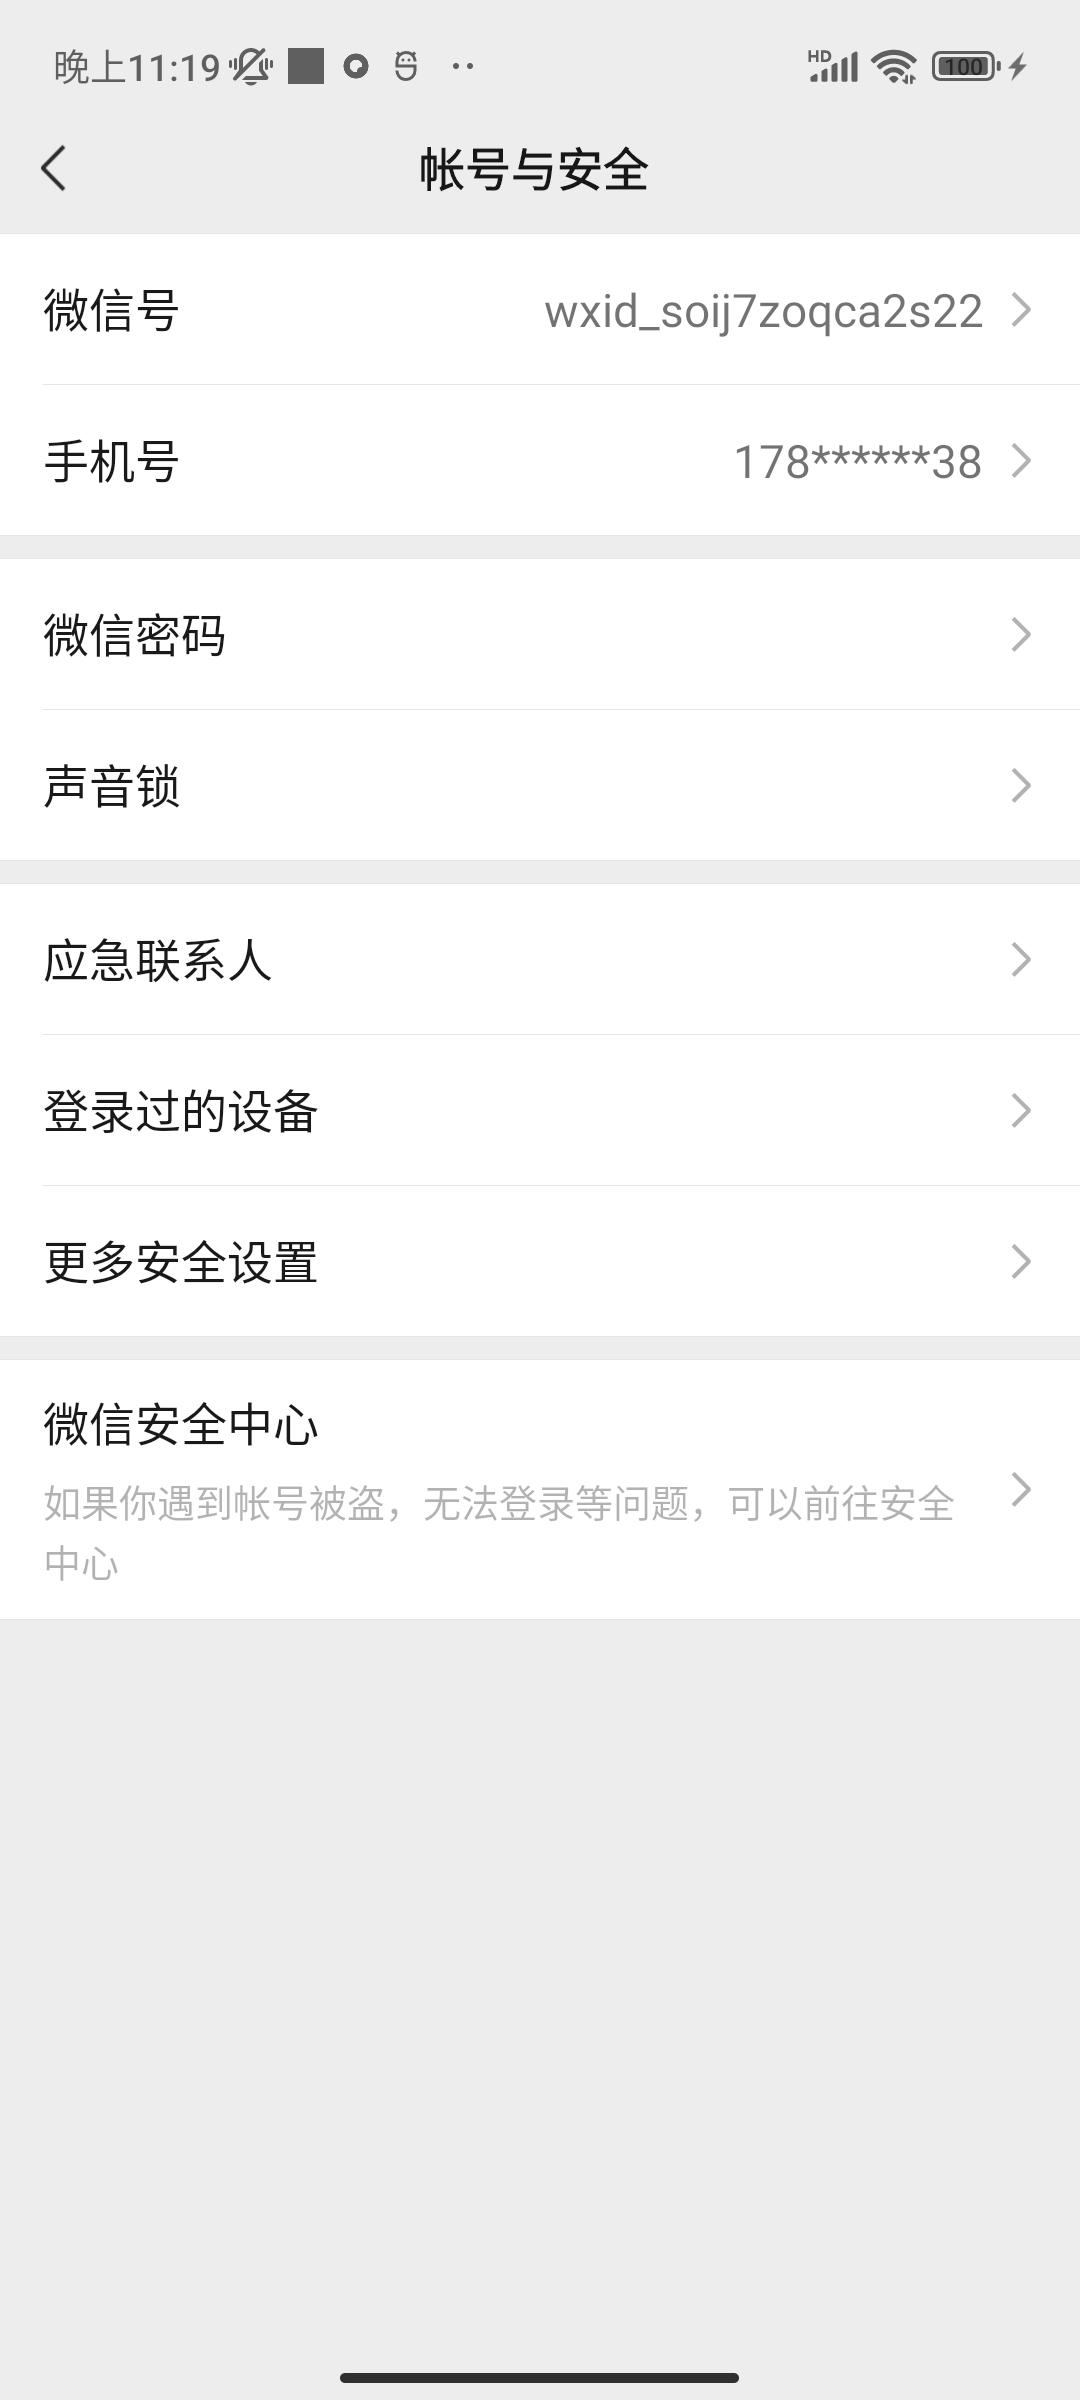ui_group: (5, 1371, 1072, 1606), (8, 395, 1068, 537), (5, 233, 1075, 366)
